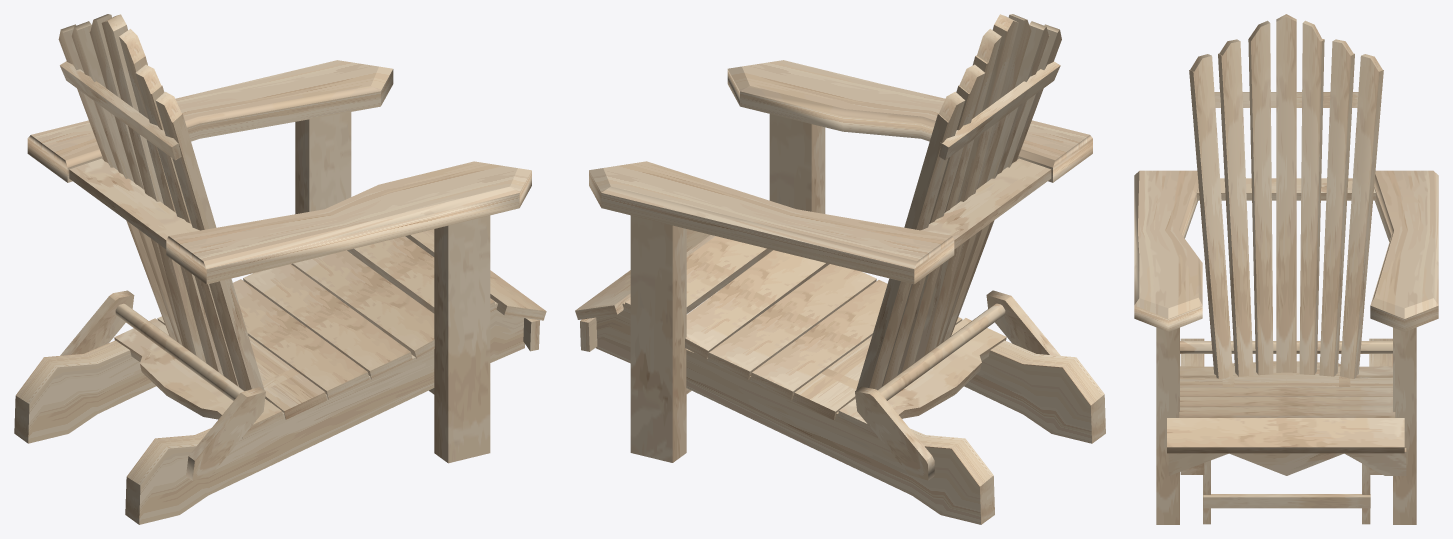
The model's file is Adirondack Chair (Reduced).fbx.
3 renders of one model, left to right at view 1: azimuth 30°, elevation 25°; view 2: azimuth 150°, elevation 25°; view 3: azimuth 270°, elevation 25°, orthographic. The views are drawn at different scales.
Visible parts, largest first — view 1: pCube18, pCube4, pCube1, pCube3, pCube22, pCube8, pCube7, pCube21, pCube12, pCube20, pCube2, pCube25 (+8 smaller); view 2: pCube18, pCube3, pCube2, pCube4, pCube22, pCube8, pCube7, pCube21, pCube12, pCube20, pCube25, pCube1 (+8 smaller); view 3: pCube18, pCube21, pCube20, pCube22, pCube5, pCube19, pCube1, pCube2, pCube17, pCube13, pCube11, pCube6 (+11 smaller).
Part boxes in pixels (box(x1,y1,x2,y2)): pCube18: box(27, 60, 531, 284); pCube4: box(125, 298, 524, 524); pCube1: box(434, 215, 490, 463); pCube3: box(14, 250, 374, 443); pCube22: box(58, 24, 264, 390); pCube8: box(243, 264, 412, 379); pCube7: box(291, 250, 434, 358); pCube21: box(71, 21, 238, 386); pCube12: box(233, 279, 369, 399); pCube20: box(89, 14, 223, 375); pCube2: box(295, 112, 351, 214); pCube25: box(60, 290, 265, 480); pCube18: box(589, 60, 1092, 284); pCube3: box(596, 298, 994, 524); pCube2: box(630, 215, 686, 462); pCube4: box(964, 340, 1105, 443); pCube22: box(856, 24, 1061, 389); pCube8: box(707, 264, 876, 379); pCube7: box(685, 250, 829, 358); pCube21: box(881, 21, 1049, 386); pCube12: box(750, 280, 887, 399); pCube20: box(897, 14, 1031, 375); pCube25: box(855, 290, 1060, 480); pCube1: box(769, 114, 825, 213); pCube18: box(1134, 170, 1438, 331); pCube21: box(1218, 39, 1354, 376); pCube20: box(1248, 20, 1324, 375); pCube22: box(1189, 54, 1383, 378); pCube5: box(1167, 418, 1404, 453); pCube19: box(1276, 14, 1296, 372); pCube1: box(1156, 327, 1179, 524); pCube2: box(1393, 327, 1416, 524); pCube17: box(1168, 448, 1406, 475); pCube13: box(1180, 372, 1392, 387); pCube11: box(1203, 494, 1370, 508); pCube6: box(1179, 407, 1395, 417).
Size of the model in its own units: 16.61 by 18.05 by 12.88.
1 material, 1 textured.
